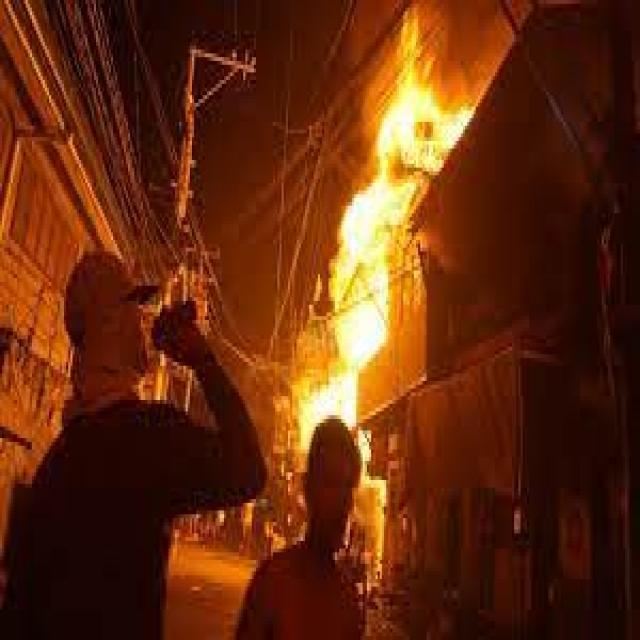Fire: (390, 90, 479, 212), (341, 227, 394, 411), (303, 372, 358, 428)
Smoke: (373, 0, 564, 122)
